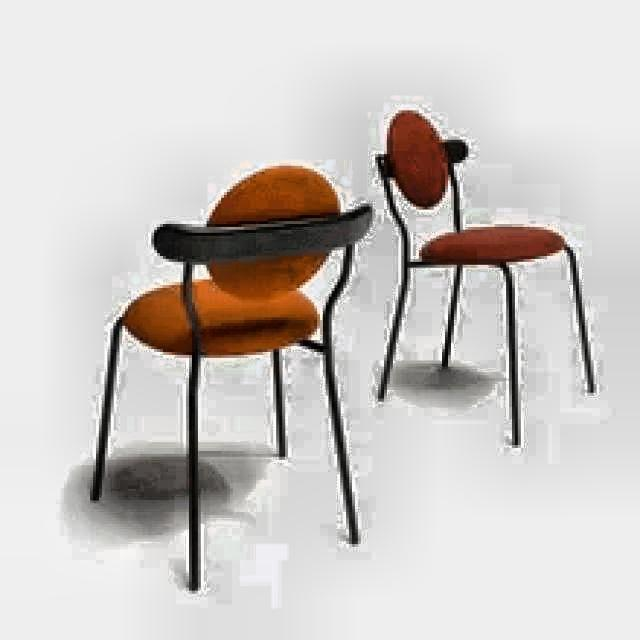cadeira: (89, 157, 379, 594), (369, 106, 599, 448), (124, 165, 374, 358), (378, 108, 566, 267)
